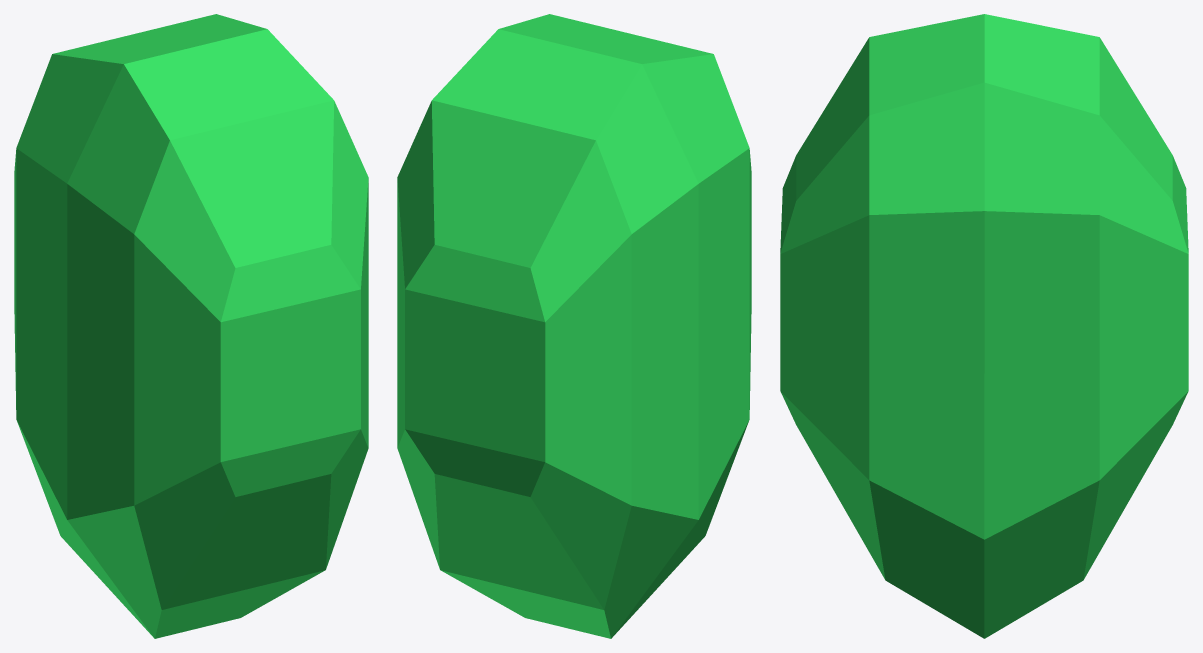
The model's file is Joya.fbx.
3 views of the same model, side by side, from view 1: azimuth 30°, elevation 25°; view 2: azimuth 150°, elevation 25°; view 3: azimuth 270°, elevation 25° (orthographic). The views are drawn at different scales.
Visible parts, largest first — view 1: Cube; view 2: Cube; view 3: Cube.
Boxes of the visible parts, <box> form: Cube: <box>14,14,368,638</box>; Cube: <box>397,14,751,638</box>; Cube: <box>780,14,1188,638</box>.
Bounding box in the file's own units: 5.59 × 12.28 × 7.99.
